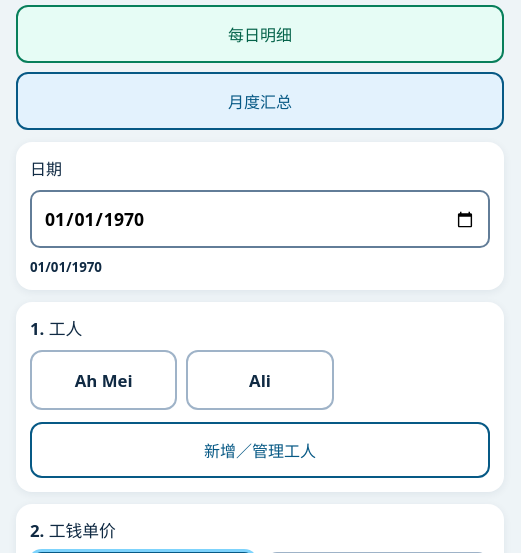
Test: fish head worker session flow › removes a wrong entry before the worker total is saved
Click the button "Ah Mei" at (104, 380), box [30,350,177,410]
(page scrolled)
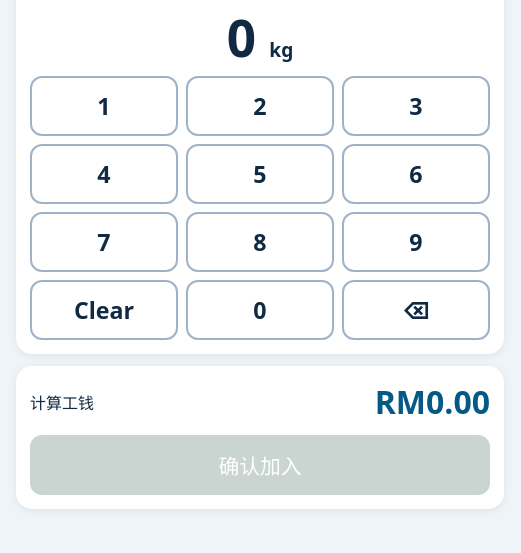
Click the button "7" at (104, 242), box [30,212,178,272]
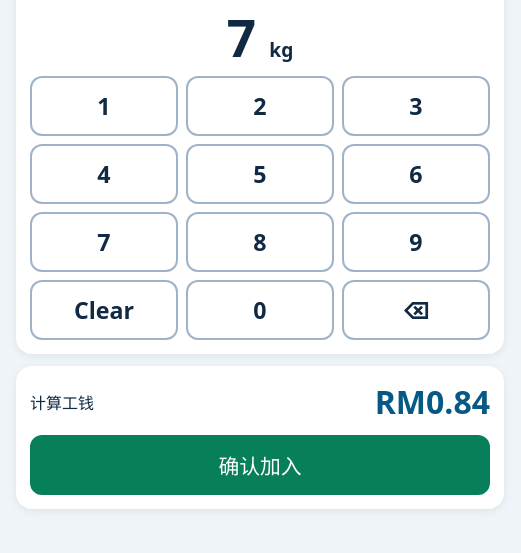
Click the button "4" at (104, 174), box [30,144,178,204]
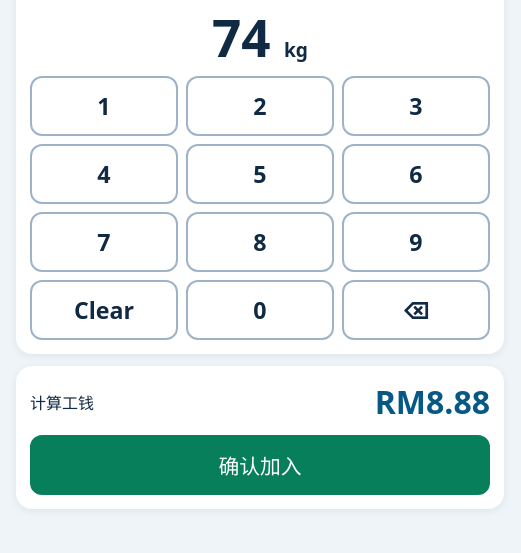
Click the button "确认加入" at (260, 465), box [30,435,490,495]
(page scrolled)
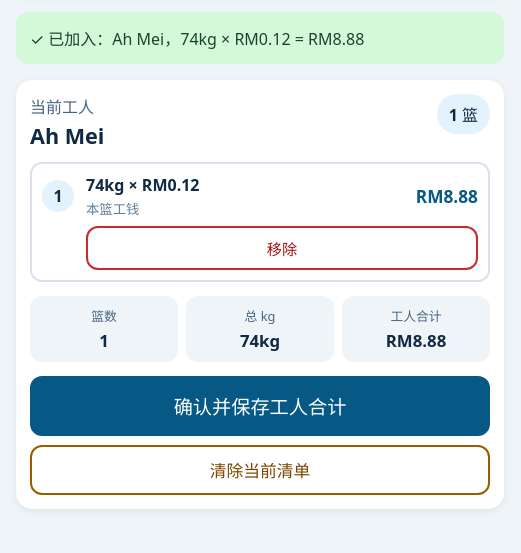
Click the button with aria-label "移除第 1 篮" at (282, 248), box [86,226,478,270]
(page scrolled)
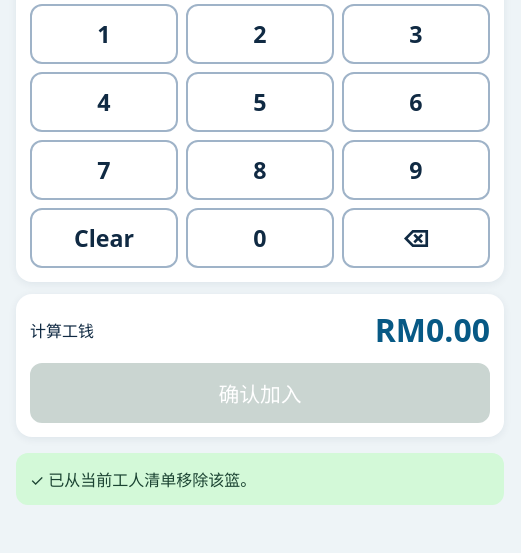
expect the text "74kg × RM0.12" is gone: met
expect the button "确认并保存工人合计" is gone: met
